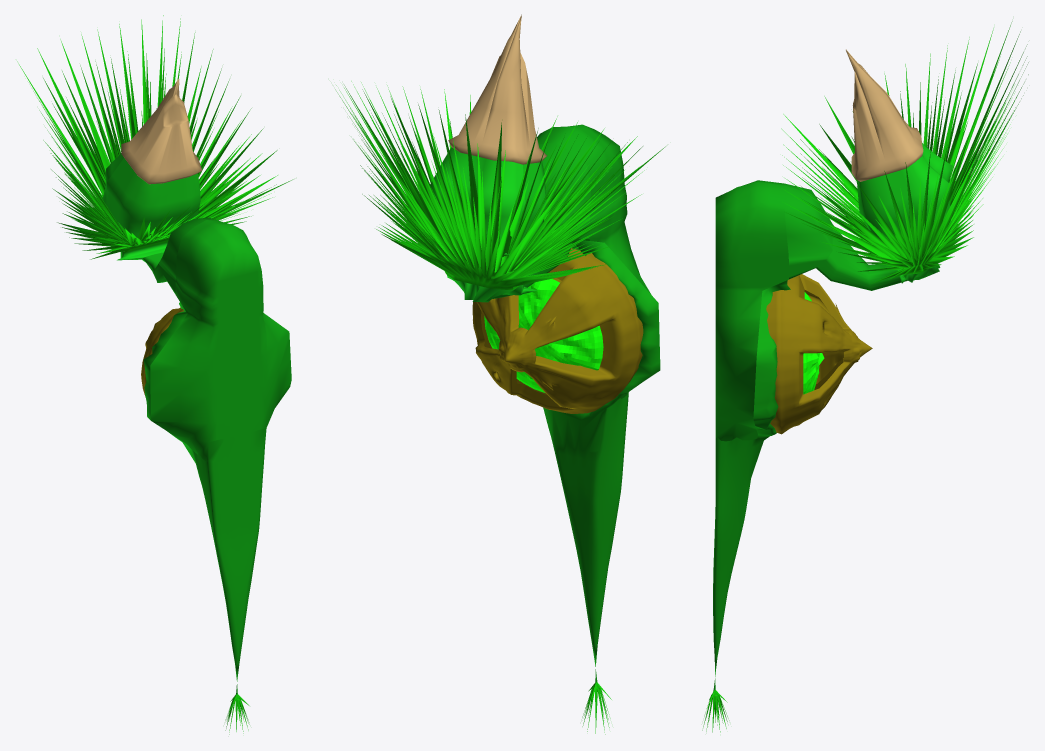
The model's file is Spitter(Mesh).fbx.
3 views of the same model, side by side, from view 1: azimuth 30°, elevation 25°; view 2: azimuth 150°, elevation 25°; view 3: azimuth 270°, elevation 25° (orthographic). The views are drawn at different scales.
Parts seen in each view (by area): view 1: pod.001; view 2: pod.001; view 3: pod.001.
Boxes of the visible parts, x1,y1,x2,y2 form: pod.001: (17, 15, 293, 734); pod.001: (335, 14, 665, 734); pod.001: (702, 21, 1028, 732).
Bounding box in the file's own units: 470 × 1507 × 661.
